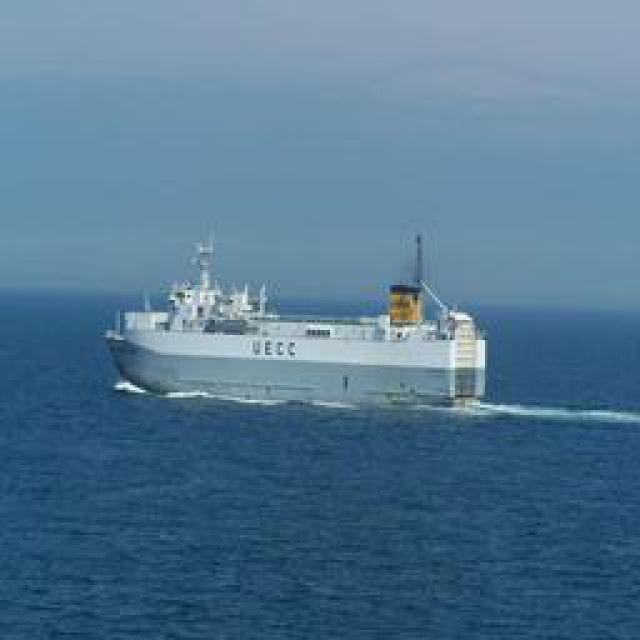Ship: (110, 227, 480, 405)
